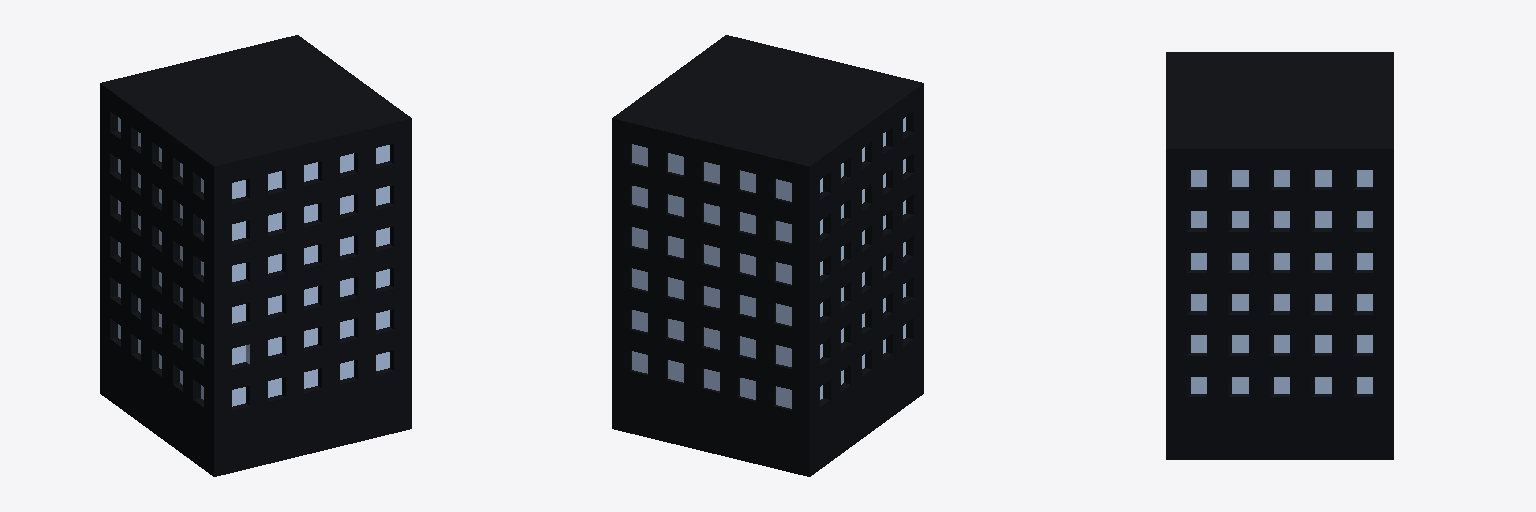
File: biru.obj
The picture shows the model from 3 angles: view 1: azimuth 30°, elevation 25°; view 2: azimuth 150°, elevation 25°; view 3: azimuth 270°, elevation 25°; orthographic projection.
Visible parts, largest first — view 1: pCube1; view 2: pCube1; view 3: pCube1.
Boxes of the visible parts, x1,y1,x2,y2 form: pCube1: [100, 35, 411, 476]; pCube1: [612, 35, 923, 476]; pCube1: [1166, 52, 1393, 459].
Bounding box in the file's own units: 2 × 3 × 2.